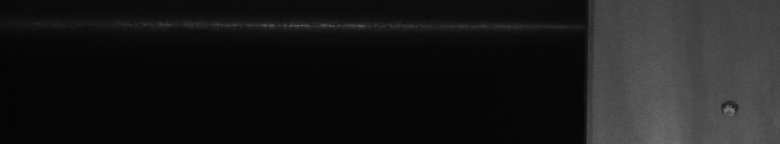fi: (720, 92, 740, 120)
